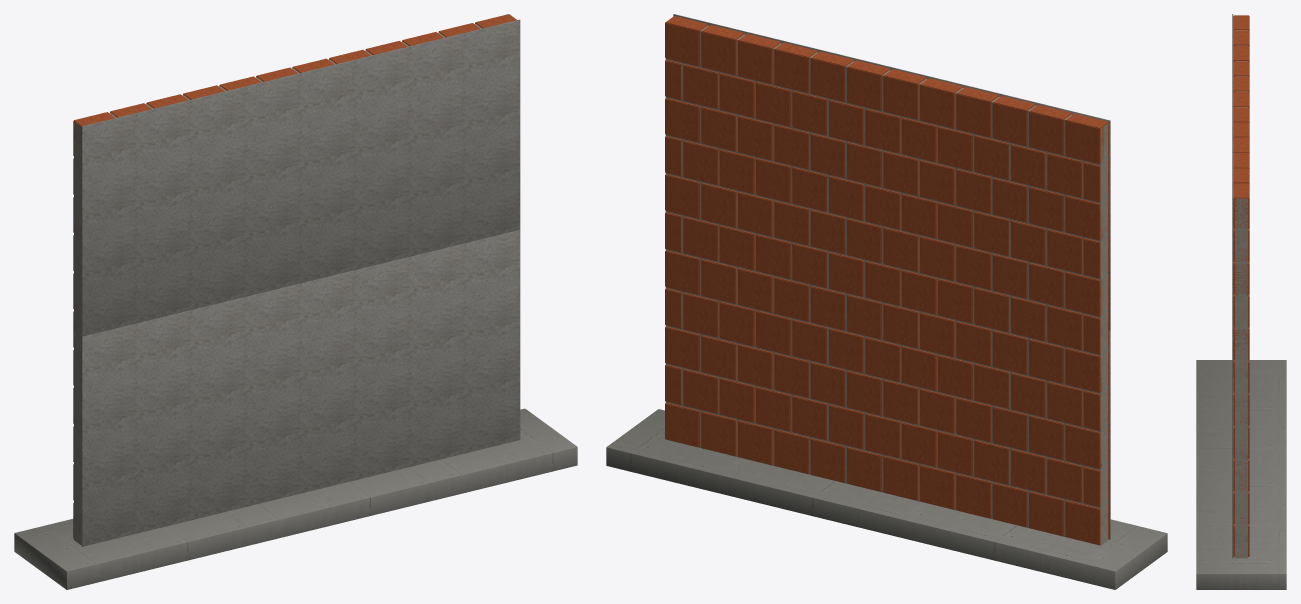
Rendered from KIT-REV-01_lod1.glb.
3 renders of one model, left to right at view 1: azimuth 30°, elevation 25°; view 2: azimuth 150°, elevation 25°; view 3: azimuth 270°, elevation 25°, orthographic. The views are drawn at different scales.
Parts seen in each view (by area): view 1: KIT-REV-01_chapisco_sup, KIT-REV-01_chapisco_inf, KIT-REV-01_base, KIT-REV-01_argamassa_juntas; view 2: KIT-REV-01_base, KIT-REV-01_argamassa_juntas, KIT-REV-01_p125, KIT-REV-01_p126, KIT-REV-01_p133, KIT-REV-01_p128, KIT-REV-01_p129, KIT-REV-01_p130, KIT-REV-01_p131, KIT-REV-01_p132, KIT-REV-01_p134, KIT-REV-01_p135 (+118 smaller); view 3: KIT-REV-01_base, KIT-REV-01_argamassa_juntas, KIT-REV-01_chapisco_sup, KIT-REV-01_p136, KIT-REV-01_p111, KIT-REV-01_chapisco_inf, KIT-REV-01_p126, KIT-REV-01_p128, KIT-REV-01_p129, KIT-REV-01_p131, KIT-REV-01_p132, KIT-REV-01_p133 (+10 smaller).
Boxes of the visible parts, bbox=[...] form: KIT-REV-01_chapisco_sup: bbox=[81, 19, 520, 336]; KIT-REV-01_chapisco_inf: bbox=[81, 230, 520, 546]; KIT-REV-01_base: bbox=[14, 408, 577, 589]; KIT-REV-01_argamassa_juntas: bbox=[74, 24, 481, 545]; KIT-REV-01_base: bbox=[606, 409, 1167, 589]; KIT-REV-01_argamassa_juntas: bbox=[665, 25, 1107, 545]; KIT-REV-01_p125: bbox=[1065, 113, 1108, 164]; KIT-REV-01_p126: bbox=[1029, 104, 1072, 155]; KIT-REV-01_p133: bbox=[774, 42, 817, 92]; KIT-REV-01_p128: bbox=[956, 87, 999, 137]; KIT-REV-01_p129: bbox=[920, 78, 963, 128]; KIT-REV-01_p130: bbox=[883, 69, 926, 119]; KIT-REV-01_p131: bbox=[847, 60, 890, 110]; KIT-REV-01_p132: bbox=[810, 51, 853, 101]; KIT-REV-01_p134: bbox=[738, 33, 781, 84]; KIT-REV-01_p135: bbox=[701, 25, 744, 75]; KIT-REV-01_base: bbox=[1196, 360, 1286, 589]; KIT-REV-01_argamassa_juntas: bbox=[1235, 30, 1247, 558]; KIT-REV-01_chapisco_sup: bbox=[1232, 14, 1233, 377]; KIT-REV-01_p136: bbox=[1233, 183, 1249, 228]; KIT-REV-01_p111: bbox=[1233, 261, 1249, 294]; KIT-REV-01_chapisco_inf: bbox=[1232, 378, 1233, 558]; KIT-REV-01_p126: bbox=[1233, 30, 1249, 46]; KIT-REV-01_p128: bbox=[1233, 61, 1249, 76]; KIT-REV-01_p129: bbox=[1233, 76, 1249, 92]; KIT-REV-01_p131: bbox=[1233, 107, 1249, 122]; KIT-REV-01_p132: bbox=[1233, 122, 1249, 138]; KIT-REV-01_p133: bbox=[1233, 137, 1249, 153].
Size of the model in its own units: 2.8 by 2.3 by 0.5001.
Materials: 4 (4 with a texture image).
